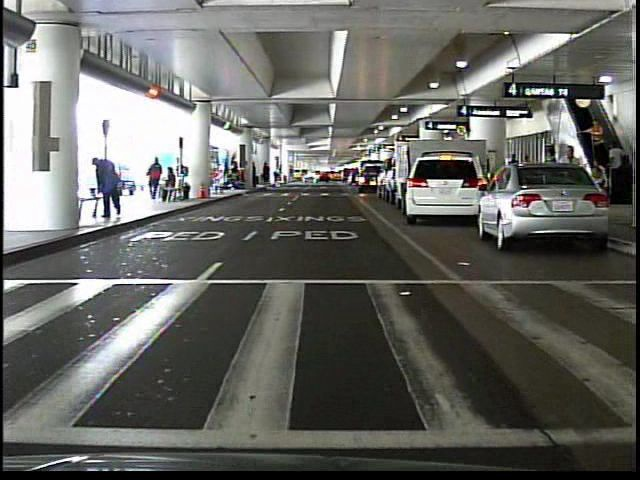person: (92, 152, 127, 223), (582, 117, 608, 168), (607, 139, 626, 192), (212, 165, 227, 199), (275, 162, 288, 190)
